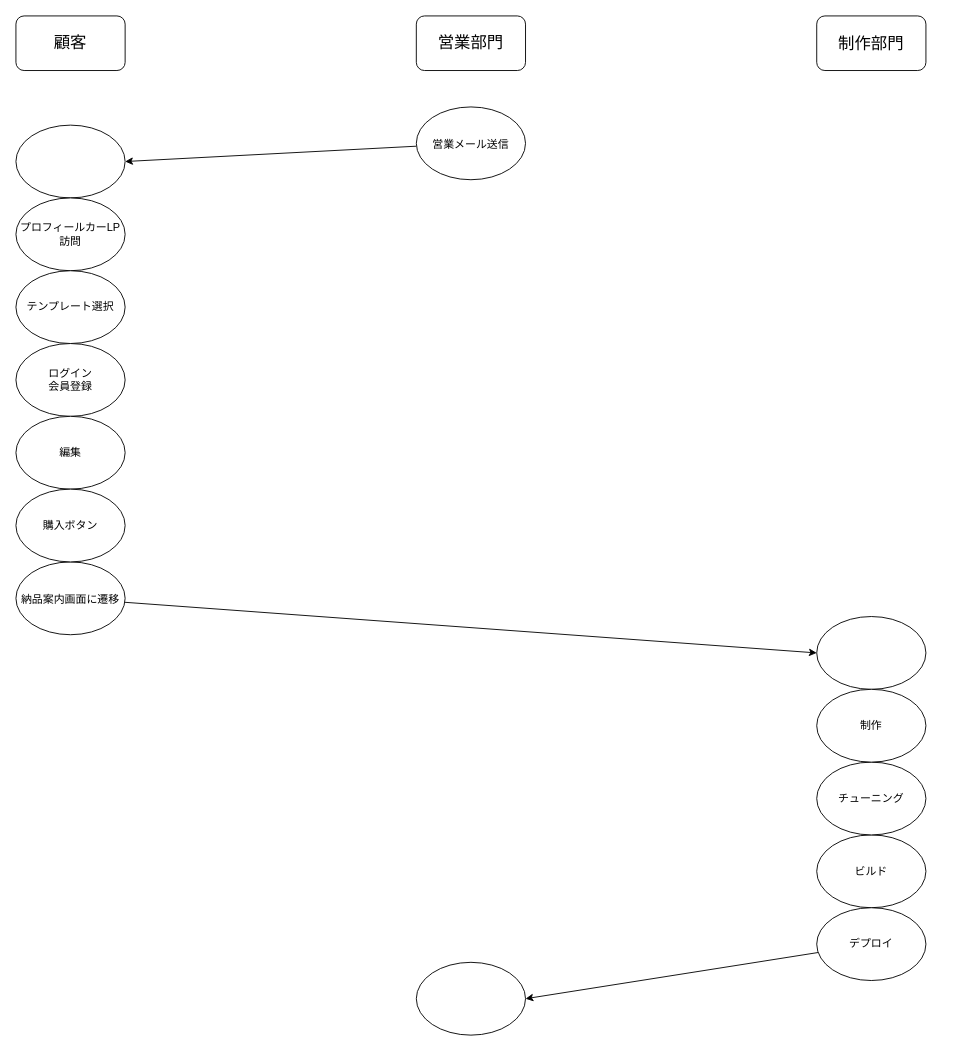
The diagram is 956 pixels wide and 1051 high, and some of its shapes have lost their labels. The centre of each missing label's shape, as x and y in pixels:
"DMでのやり取り" goes at (70,161).
"データ受取" goes at (871,652).
"納品メール送信" goes at (470,998).
